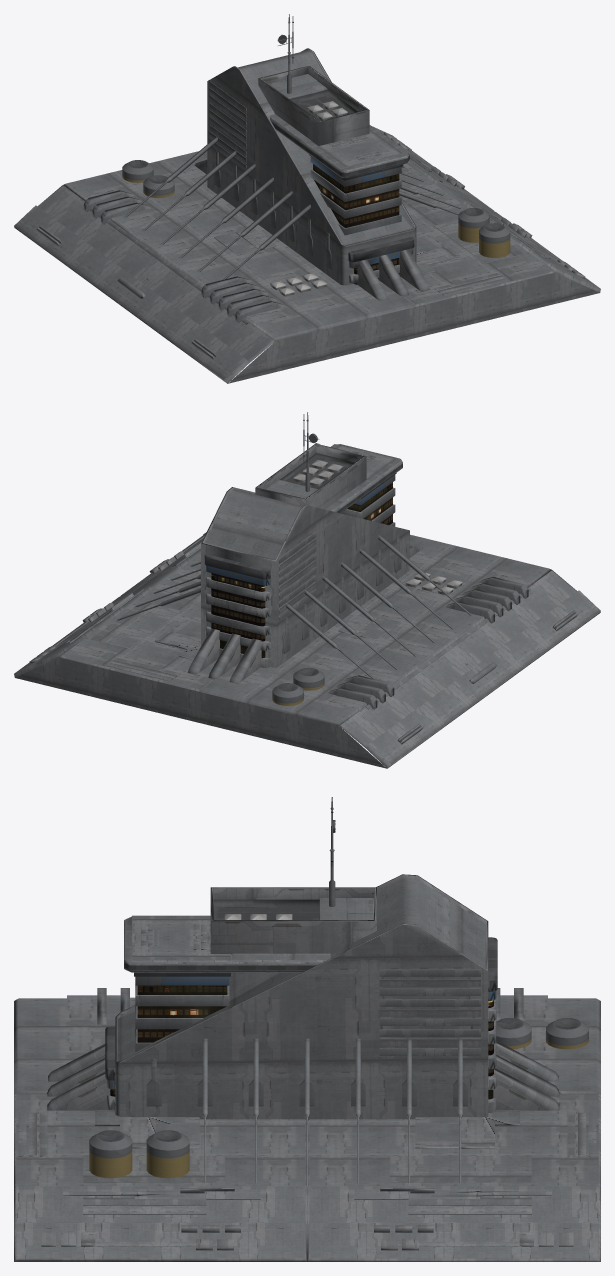
File: CityBlock009.fbx
3 renders of one model, top to bottom at view 1: azimuth 30°, elevation 25°; view 2: azimuth 150°, elevation 25°; view 3: azimuth 270°, elevation 25°, orthographic. The views are drawn at different scales.
Visible parts, largest first — view 1: SMCGBlock49_3707.Shape; view 2: SMCGBlock49_3707.Shape; view 3: SMCGBlock49_3707.Shape.
Part boxes in pixels (x1,y1,x2,y2): SMCGBlock49_3707.Shape: (14,14,600,383); SMCGBlock49_3707.Shape: (14,412,600,768); SMCGBlock49_3707.Shape: (14,797,600,1261).
Bounding box in the file's own units: 735 × 451 × 721.
